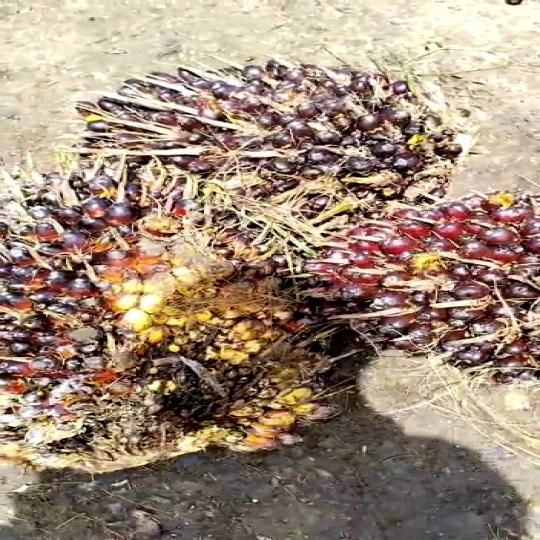kurang masak: (0, 159, 369, 473), (68, 60, 453, 210)
